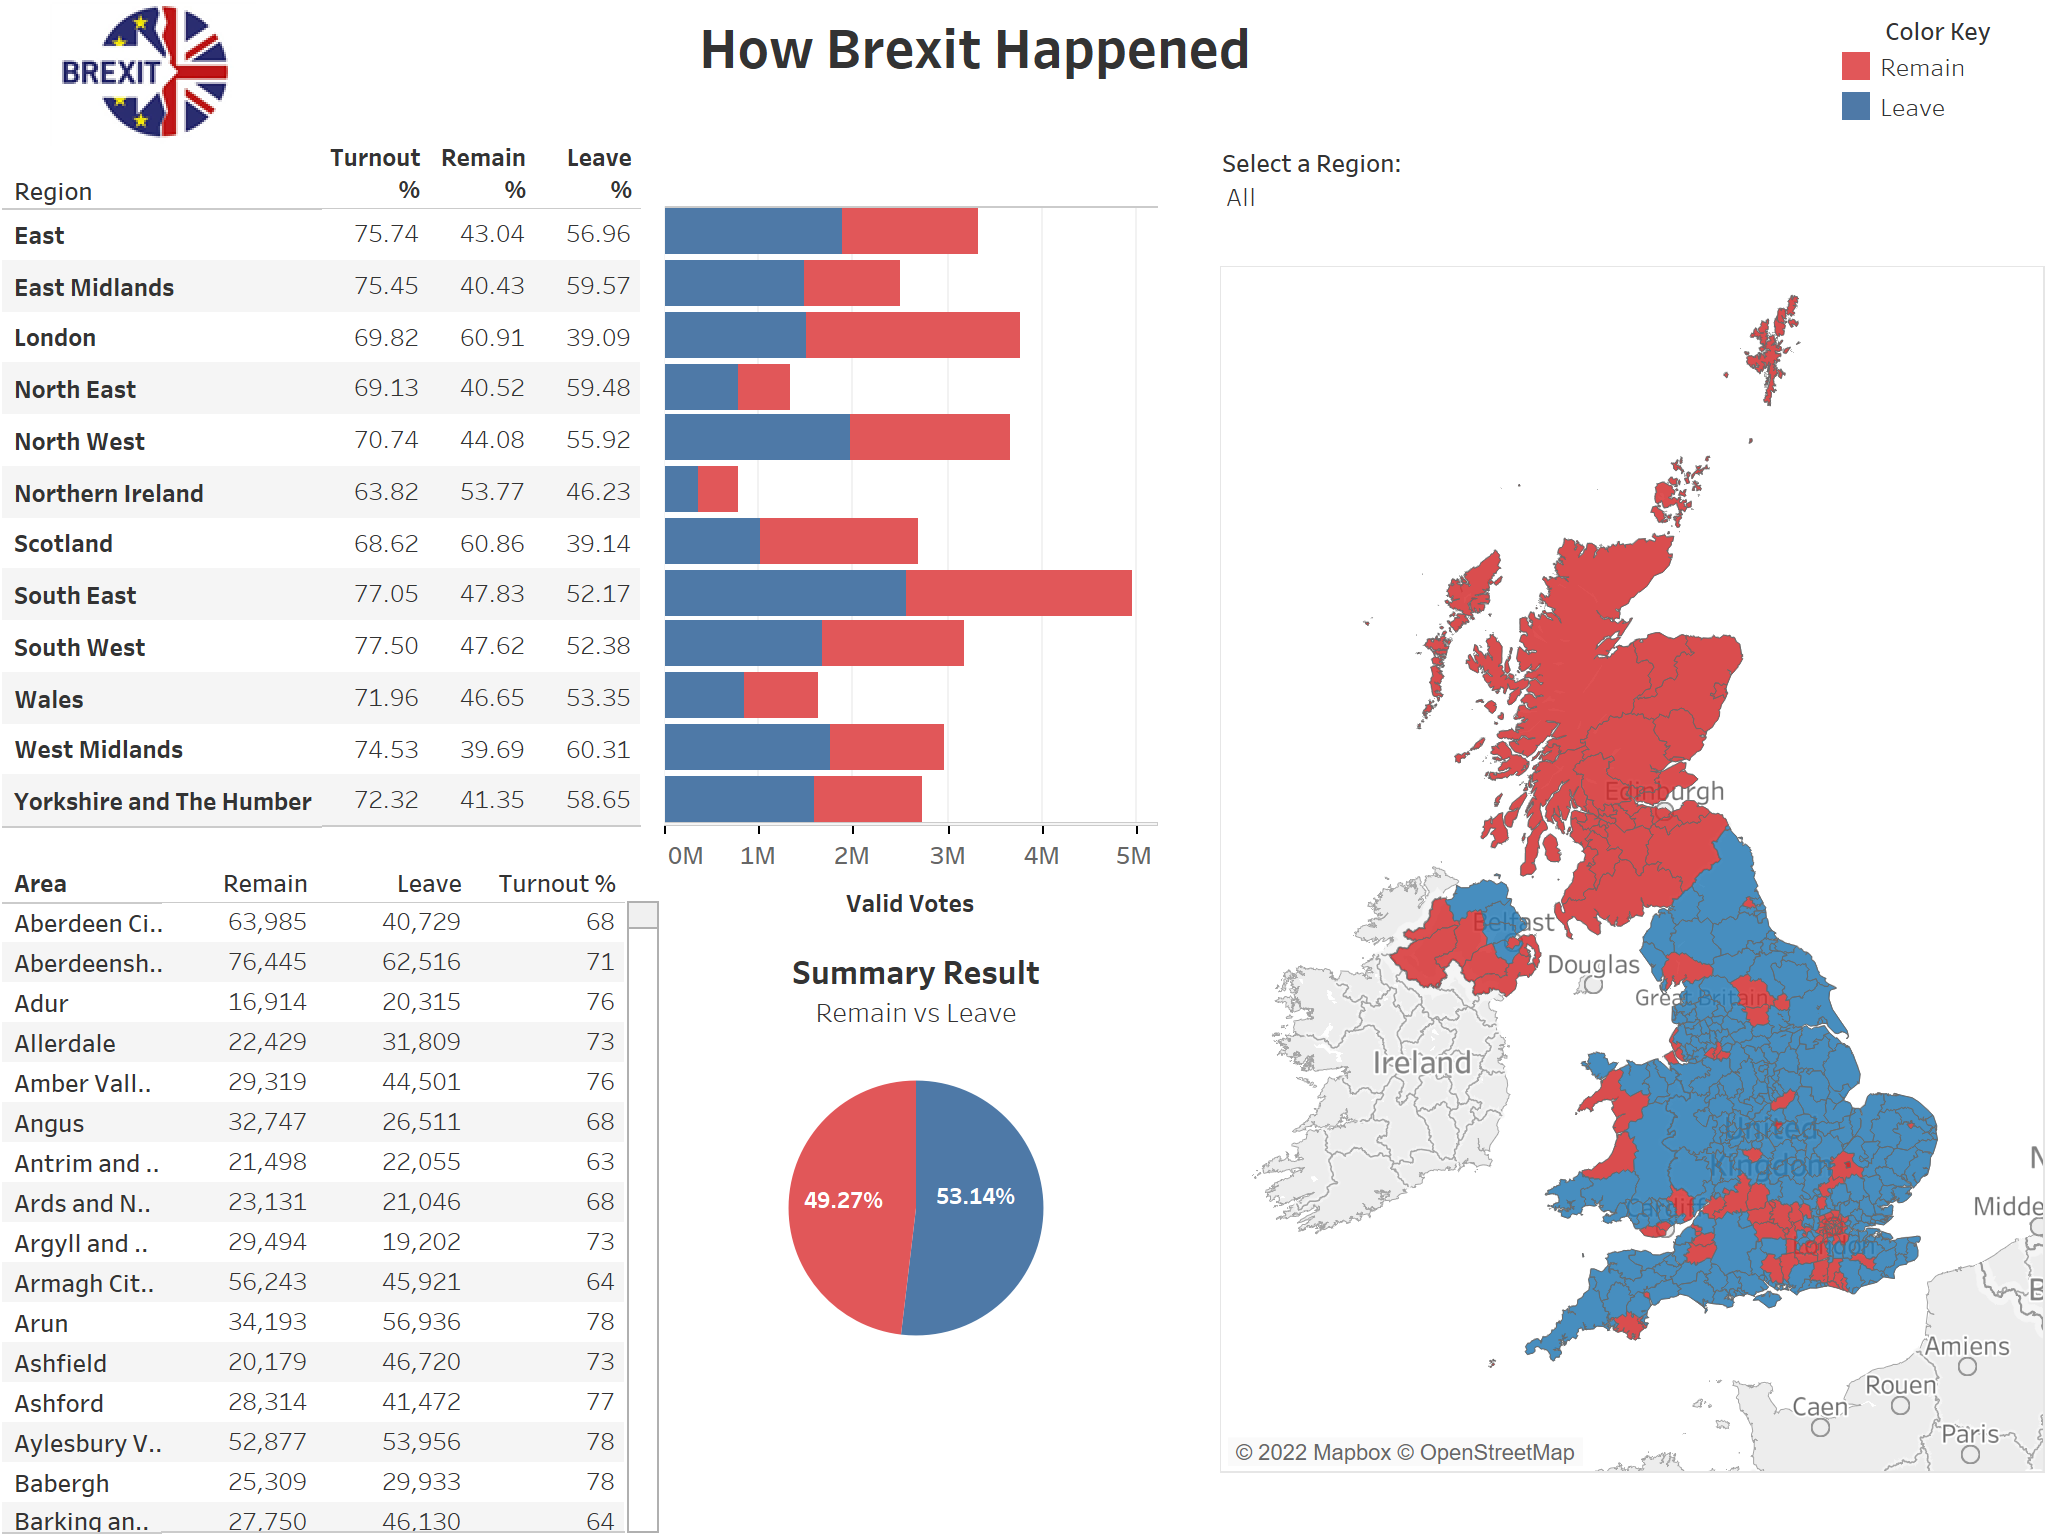

The dashboard page shown, as its layout file describes it:
{"tool":"tableau","page":{"name":"How Brexit happened","canvas":[1024,768],"ordinal":0},"visuals":[{"type":"title","box":[157.7,3.8,659.5,39.4]},{"type":"legend","title":"Bar Chart","param":"[federated.0khwj141mlten7181ypy519amm8h].[:Measure Names]","box":[918,5,100,56]},{"type":"image","param":"C:/Users/YetundeAdesalu/Downloads/Brexit.jpg","box":[1,10,149,72]},{"type":"worksheet","title":"Text Table","mark":"Automatic","rows":["Region"],"box":[1,48,341,366]},{"type":"filter","title":"Area Votes","param":"[federated.0khwj141mlten7181ypy519amm8h].[none:Region:nk]","box":[611,72,412,42]},{"type":"worksheet","title":"Bar Chart","mark":"Automatic","rows":["Region"],"box":[329,86,248,381]},{"type":"worksheet","title":"Area Map","mark":"Multipolygon","box":[610,118,413,619]},{"type":"worksheet","title":"Area Votes","mark":"Automatic","rows":["Area"],"box":[1,415.7,328.7,351.4]},{"type":"worksheet","title":"Pie Chart","mark":"Pie","box":[378,469,160,203]},{"type":"worksheet","title":"Sheet 7","mark":"Automatic","box":[368,675,236,79]}]}

Visuals, with their boxes in screenshot pixels (x1, y1, x2, y2), scaled from the page's 1024x768 canvas onto the 2048x1536 screenshot:
title: [315, 8, 1634, 86]
"Bar Chart" legend: [1836, 10, 2036, 122]
image: [2, 20, 300, 164]
"Text Table" worksheet: [2, 96, 684, 828]
"Area Votes" filter: [1222, 144, 2046, 228]
"Bar Chart" worksheet: [658, 172, 1154, 934]
"Area Map" worksheet (Multipolygon marks): [1220, 236, 2046, 1474]
"Area Votes" worksheet: [2, 831, 659, 1534]
"Pie Chart" worksheet (Pie marks): [756, 938, 1076, 1344]
"Sheet 7" worksheet: [736, 1350, 1208, 1508]
